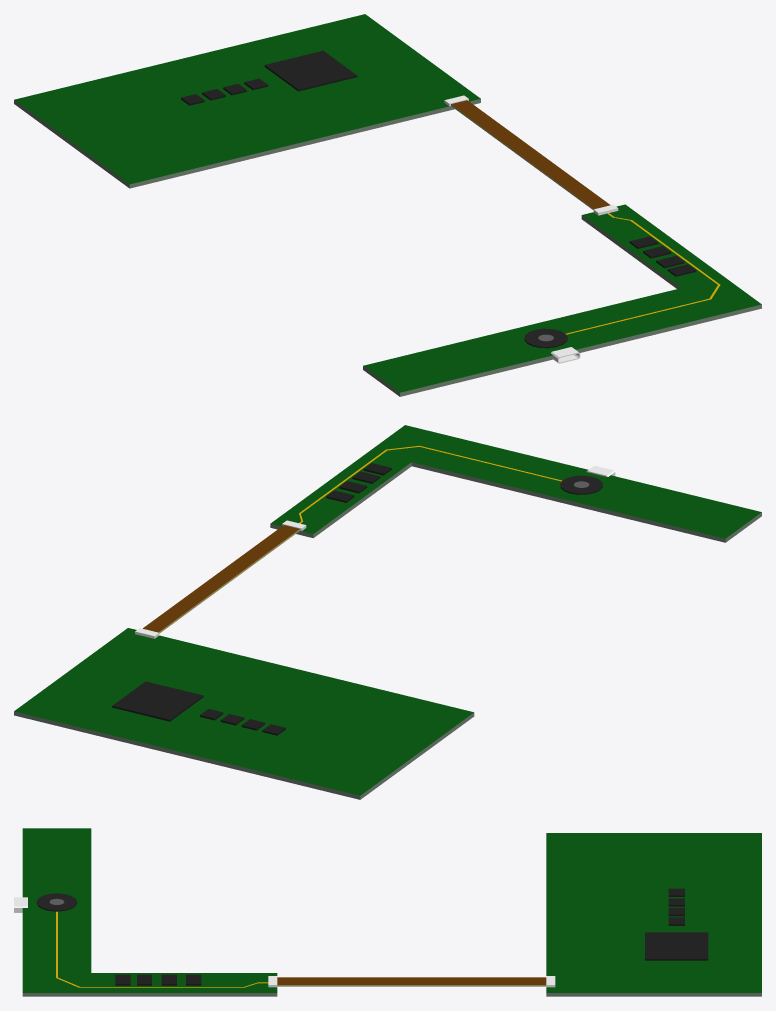
The model's file is DummyPhoneTexture.fbx.
3 views of the same model, one above another, from view 1: azimuth 30°, elevation 25°; view 2: azimuth 150°, elevation 25°; view 3: azimuth 270°, elevation 25° (orthographic). The views are drawn at different scales.
Visible parts, largest first — view 1: 3Machine; view 2: 3Machine; view 3: 3Machine.
Part boxes in pixels (x1,y1,x2,y2): 3Machine: (14, 14, 761, 396); 3Machine: (14, 425, 761, 799); 3Machine: (14, 828, 761, 996).
Size of the model in its own units: 171 by 3.67 by 329.
